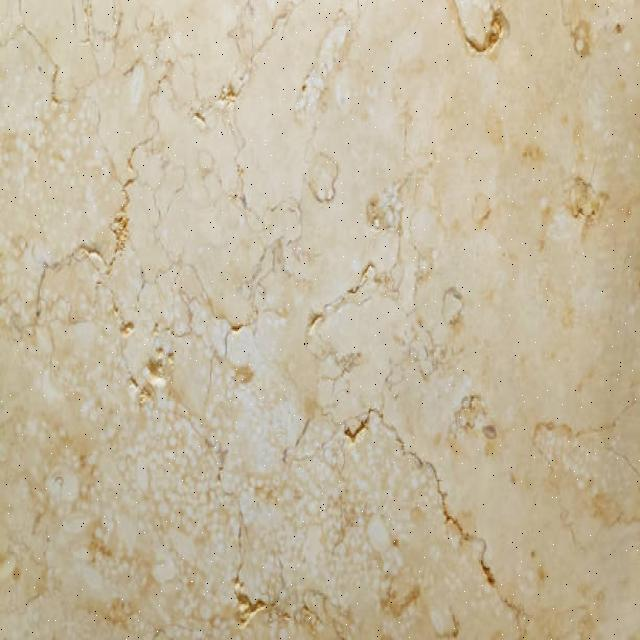Metamorphic: (1, 4, 636, 640)
